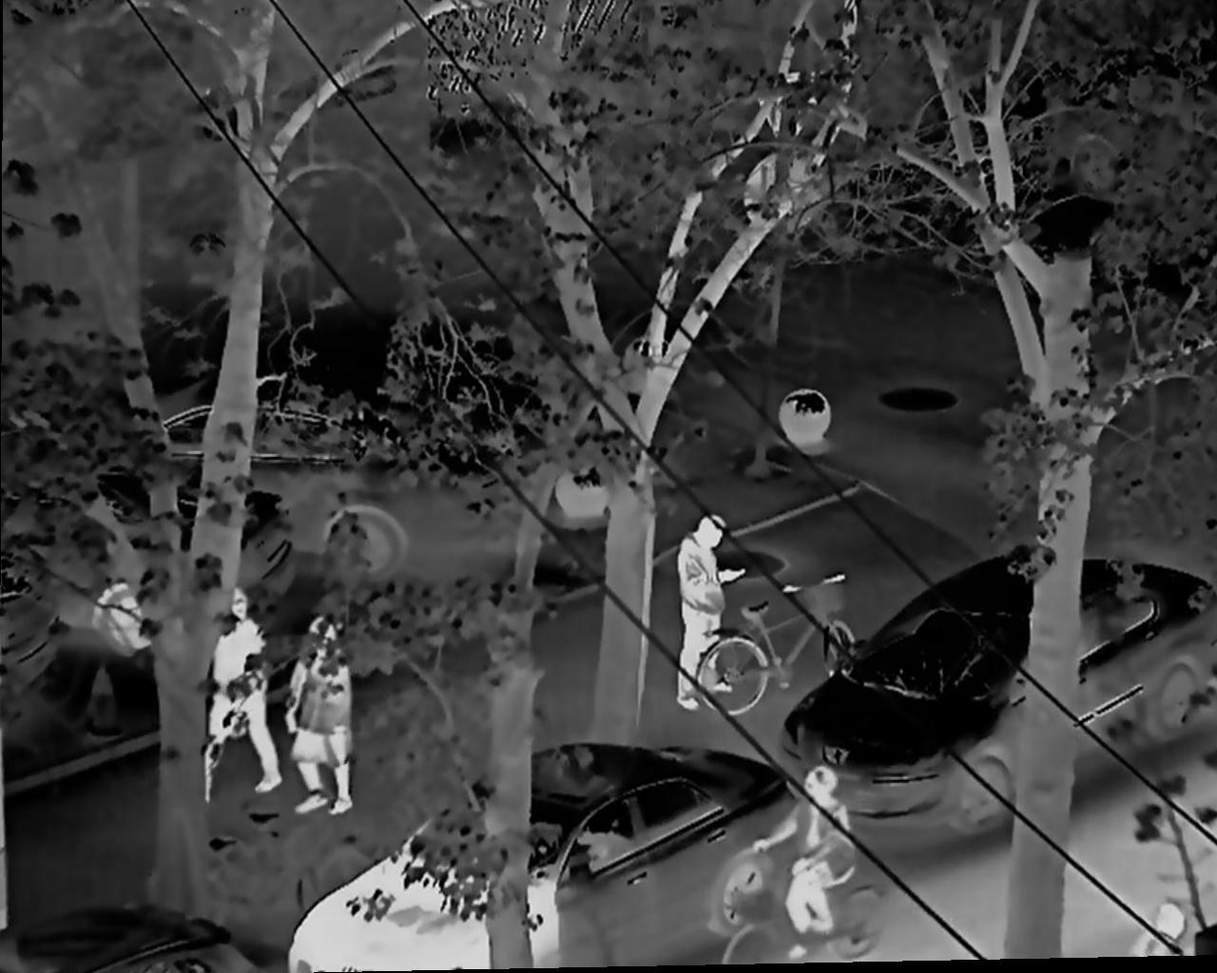person: (752, 767, 857, 949), (208, 588, 283, 792), (675, 515, 743, 715), (290, 622, 354, 816)
